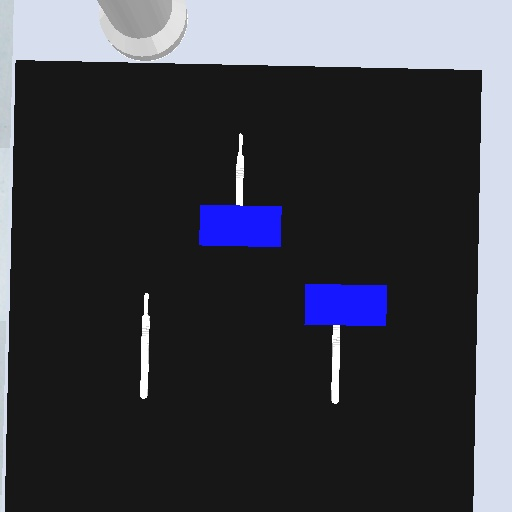bisturi: (137, 290, 153, 401), (327, 325, 344, 407), (232, 129, 247, 206)
